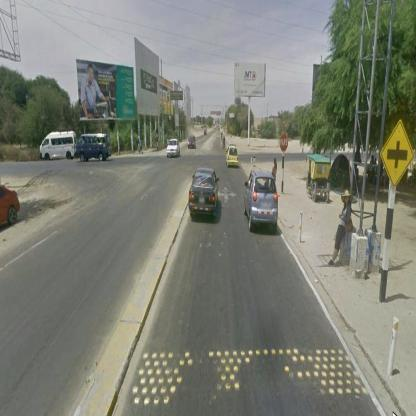Pista: (132, 126, 345, 353)
Vehiculo: (245, 171, 279, 235), (190, 169, 221, 218), (306, 153, 332, 205), (40, 130, 78, 163), (77, 133, 113, 164), (167, 138, 181, 160), (228, 145, 240, 167), (189, 137, 196, 149)
